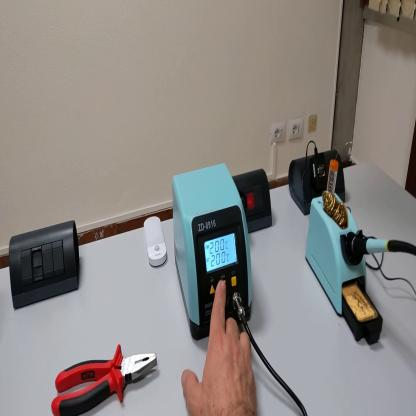hand: (182, 280, 257, 416)
pliers: (52, 342, 157, 416)
socket: (288, 152, 348, 219), (234, 167, 275, 235)
welder base: (309, 157, 384, 346)
welder station: (173, 166, 254, 343)
